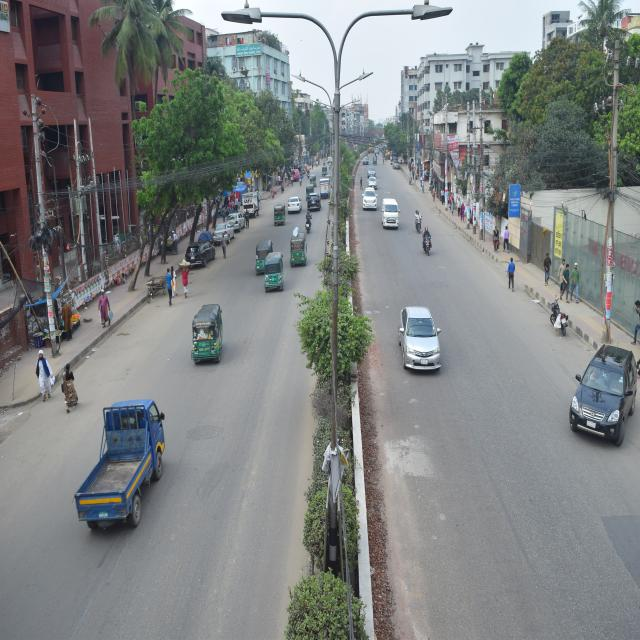car: (568, 326, 640, 461), (391, 300, 448, 388), (182, 233, 216, 266), (357, 184, 378, 214), (211, 222, 237, 246), (226, 208, 249, 231), (240, 200, 264, 218), (306, 189, 325, 211), (287, 188, 302, 212)
microbus: (380, 192, 404, 235)
motorbike: (542, 296, 574, 336), (423, 224, 435, 254), (412, 205, 423, 233), (304, 214, 315, 236)
pickup-van: (62, 393, 175, 542)
